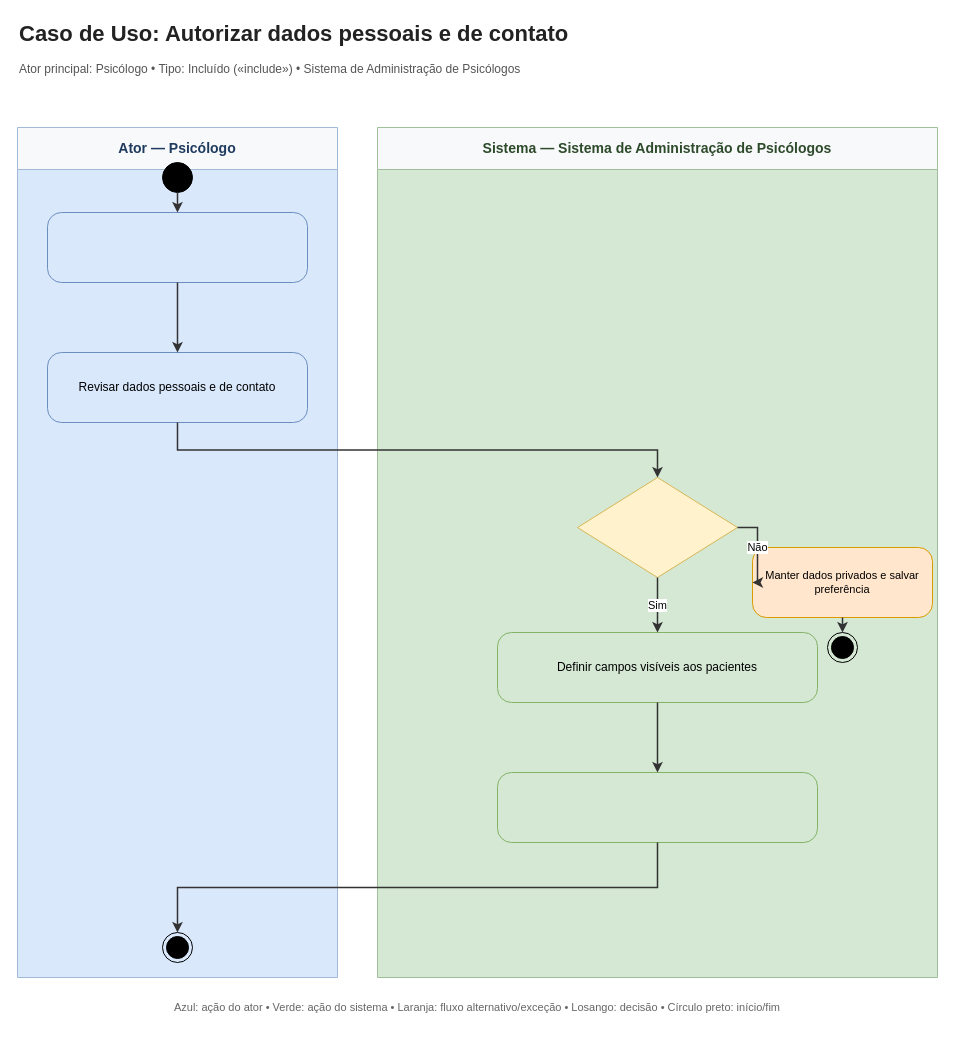
The diagram is 955 pixels wide and 1039 high, and some of its shapes have lost their labels. The shapes that lost their labels are listed below. From the top down, each one's centre as x and y in pixels, then its label:
(177,247): Abrir perfil profissional
(657,527): Autorizar exibição dos dados?
(657,807): Salvar preferência de privacidade
